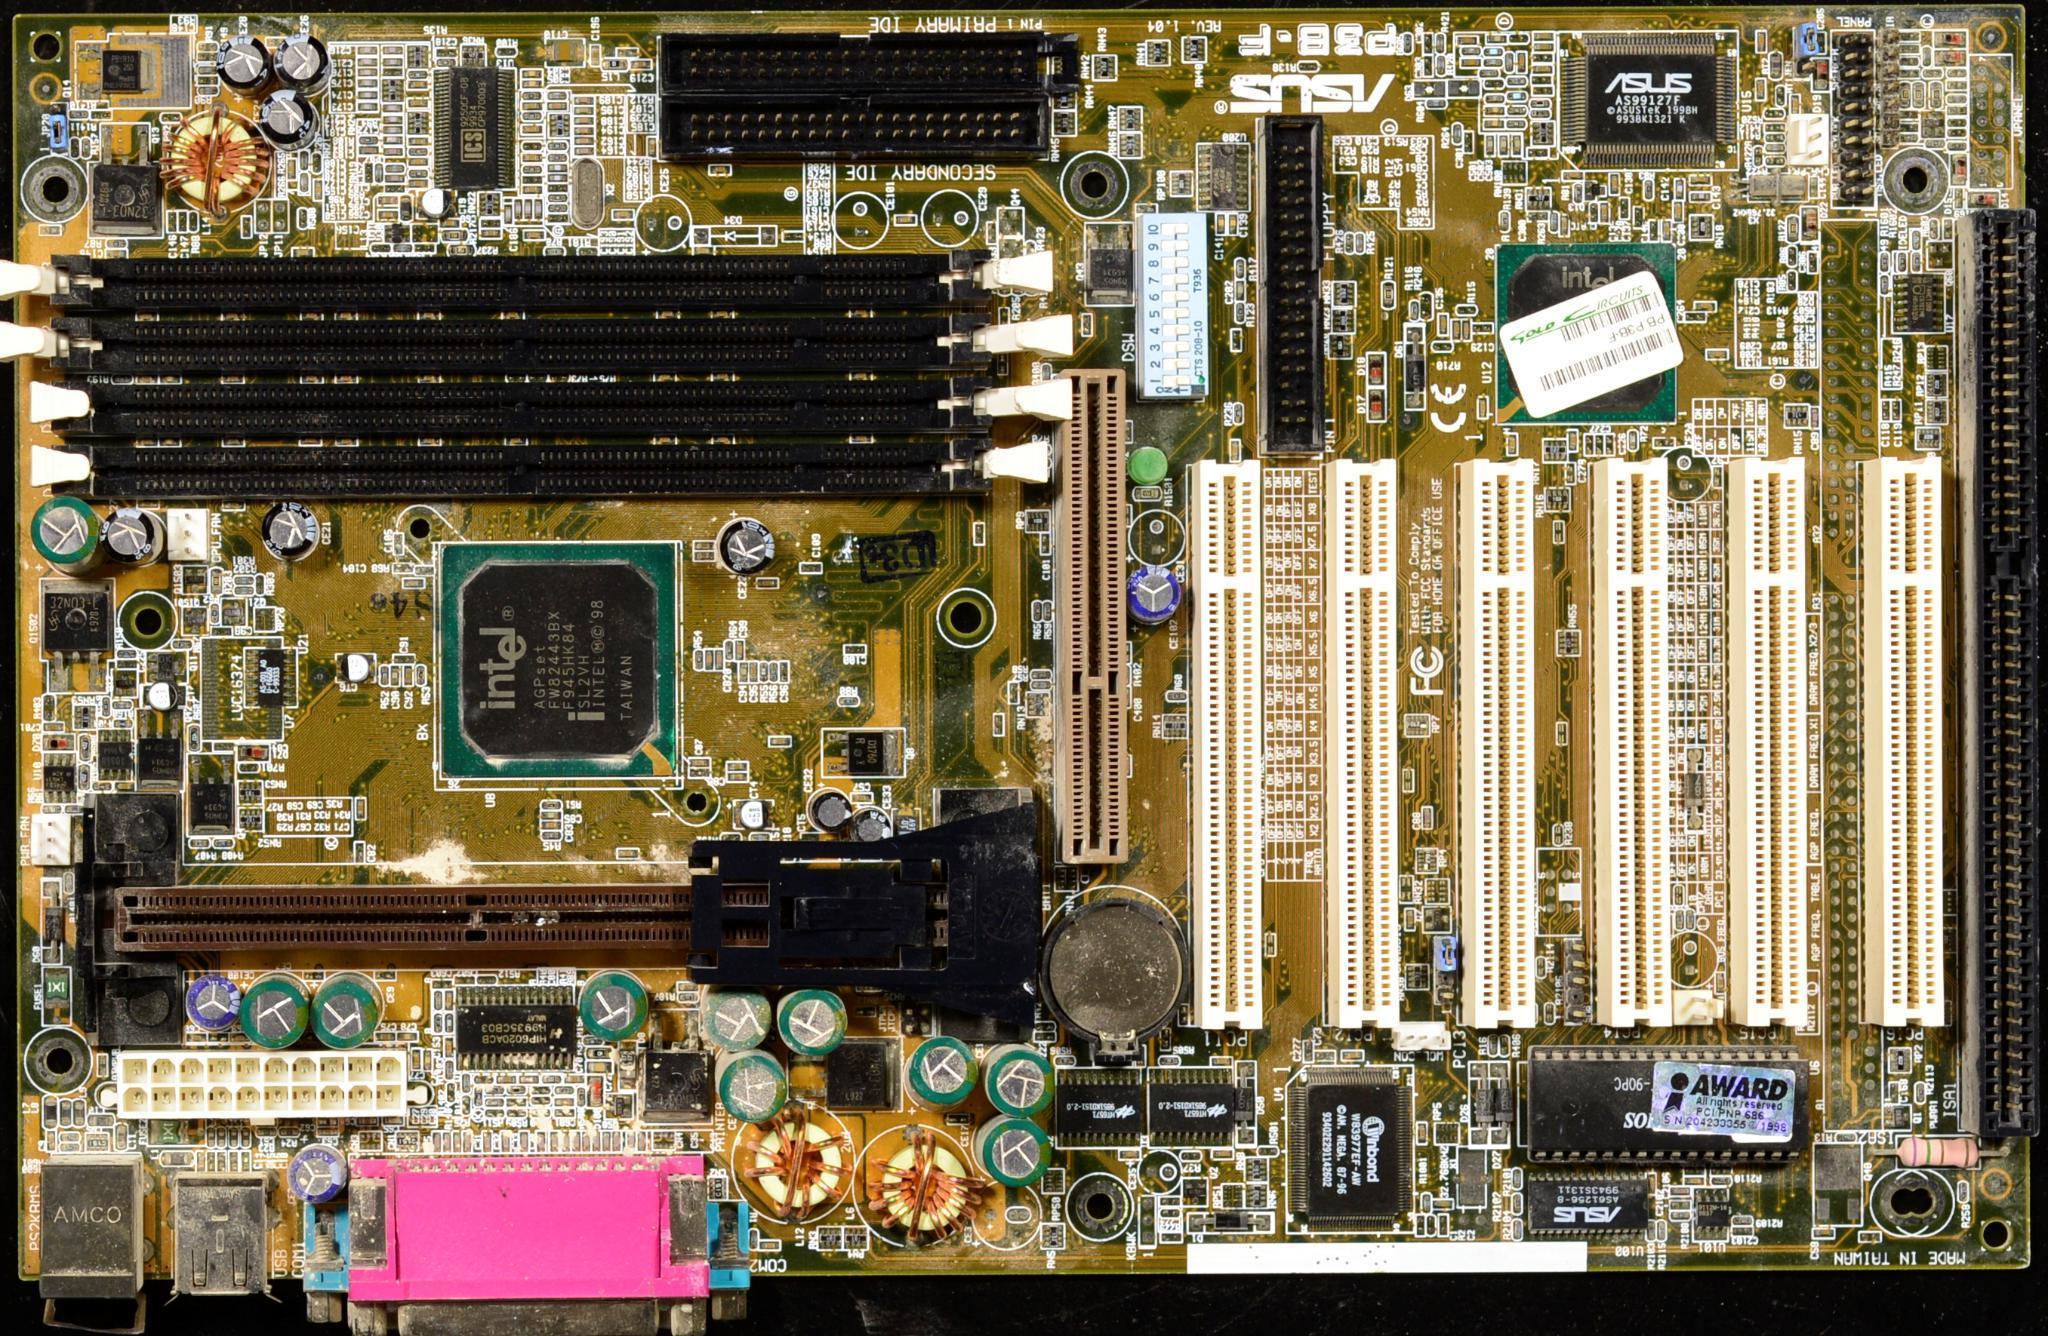Capacitor Jumper: (546, 40, 585, 66), (1755, 31, 1769, 54), (357, 90, 381, 102), (1814, 1227, 1838, 1239), (381, 45, 405, 57), (358, 78, 381, 90), (1345, 1049, 1367, 1061), (1691, 175, 1714, 187), (357, 45, 379, 57), (357, 67, 379, 79), (1755, 79, 1767, 100), (1512, 133, 1523, 157), (357, 58, 381, 69), (693, 540, 719, 549), (357, 102, 379, 112), (573, 106, 596, 116), (1669, 1187, 1691, 1197), (1670, 1209, 1693, 1220), (758, 1243, 781, 1254), (1499, 134, 1509, 157), (591, 45, 602, 67), (382, 58, 405, 69), (749, 660, 760, 682), (739, 661, 749, 684), (408, 576, 424, 590), (543, 820, 564, 830), (549, 93, 570, 103), (575, 127, 596, 137), (384, 146, 405, 157), (1218, 213, 1229, 234), (1535, 43, 1555, 54), (384, 69, 405, 79), (1408, 908, 1417, 931), (1611, 176, 1623, 194), (378, 210, 402, 219), (1040, 534, 1049, 558), (693, 758, 712, 769), (728, 761, 748, 772), (852, 793, 872, 803), (376, 164, 387, 184), (513, 200, 524, 219), (1809, 409, 1820, 428), (393, 533, 403, 552), (378, 196, 400, 205), (1229, 213, 1237, 236), (628, 61, 651, 70), (728, 773, 749, 782), (1426, 808, 1434, 828), (522, 81, 543, 90), (446, 990, 455, 1011), (409, 100, 430, 109), (412, 1051, 422, 1069), (1214, 1149, 1234, 1158), (575, 116, 596, 125), (1434, 1199, 1455, 1208), (384, 125, 405, 134), (384, 137, 405, 146), (1487, 134, 1496, 155), (649, 139, 658, 160), (575, 149, 596, 158), (385, 166, 406, 175), (1675, 181, 1685, 199), (525, 199, 534, 219), (614, 210, 634, 219), (1663, 222, 1672, 243), (696, 552, 717, 561), (405, 666, 413, 687), (522, 72, 543, 81), (384, 104, 403, 113), (1420, 1123, 1429, 1142), (360, 146, 379, 155), (410, 158, 430, 167), (288, 161, 297, 181), (711, 166, 730, 175), (1564, 172, 1584, 181), (440, 219, 460, 228), (393, 666, 402, 685), (1533, 67, 1552, 76), (360, 799, 367, 821), (1520, 52, 1527, 75), (409, 81, 427, 90), (1487, 121, 1505, 130), (387, 175, 405, 184), (409, 181, 427, 190), (525, 187, 543, 196), (1693, 193, 1711, 202), (505, 206, 513, 224), (548, 103, 569, 110), (1682, 1176, 1703, 1184), (384, 116, 405, 124), (1561, 215, 1569, 236), (525, 231, 546, 239), (1488, 36, 1509, 43), (737, 640, 745, 661), (772, 737, 793, 745), (422, 1051, 431, 1067), (522, 103, 542, 110), (1485, 109, 1505, 116), (524, 127, 543, 134), (410, 137, 430, 145), (575, 137, 594, 145), (316, 181, 324, 200), (1675, 202, 1682, 221), (1602, 203, 1609, 222), (482, 230, 502, 237), (1458, 37, 1478, 45), (717, 649, 724, 669), (1766, 146, 1788, 152), (548, 166, 570, 172), (107, 249, 125, 257), (1237, 282, 1245, 300), (575, 99, 596, 104), (1211, 1058, 1231, 1064), (1535, 34, 1555, 40), (549, 176, 569, 182), (537, 200, 543, 219), (543, 814, 561, 820), (399, 1034, 416, 1040), (522, 155, 540, 161), (696, 248, 714, 254), (755, 582, 778, 587), (378, 1033, 394, 1039), (708, 652, 714, 669)
Connector: (310, 1155, 751, 1335), (1973, 215, 2039, 1131), (60, 316, 993, 379), (57, 260, 990, 313), (58, 388, 981, 440), (58, 446, 993, 494), (113, 890, 772, 946), (1743, 466, 1809, 1023), (1473, 469, 1540, 1012), (1876, 458, 1938, 1028), (1611, 458, 1672, 1023), (1200, 466, 1261, 1028), (1063, 366, 1128, 858), (1336, 458, 1393, 1023), (652, 36, 1078, 96), (661, 100, 1052, 157), (119, 1051, 405, 1120), (39, 1155, 146, 1333), (178, 1176, 272, 1323)
IC: (439, 542, 684, 778), (1497, 240, 1685, 431), (1526, 1046, 1811, 1167), (1558, 34, 1738, 170), (1296, 1067, 1414, 1230), (455, 987, 578, 1070), (434, 69, 516, 188), (1529, 1169, 1649, 1237), (1055, 1070, 1149, 1146), (1148, 1069, 1234, 1148), (1199, 143, 1251, 212), (243, 646, 299, 711), (1896, 275, 1949, 336), (99, 728, 133, 781), (1694, 1188, 1730, 1237), (382, 224, 412, 243)
Resistor Jumper: (1872, 1139, 2011, 1167), (45, 754, 75, 803), (452, 246, 478, 258), (213, 570, 225, 596), (443, 231, 470, 242), (190, 725, 200, 752), (1911, 251, 1923, 273), (1057, 1054, 1075, 1067), (1300, 63, 1320, 75), (416, 667, 428, 687), (40, 805, 61, 815), (1532, 110, 1552, 121), (82, 137, 93, 158), (81, 767, 90, 791), (1237, 302, 1246, 325), (1736, 1215, 1755, 1226), (1452, 125, 1463, 145), (299, 152, 309, 172), (300, 173, 310, 193), (499, 48, 518, 58), (1505, 54, 1515, 73), (1167, 690, 1187, 700), (1882, 252, 1891, 275), (84, 736, 93, 758), (1917, 1084, 1926, 1105), (69, 110, 90, 119), (1514, 1169, 1523, 1190), (360, 137, 381, 146), (1643, 184, 1654, 202), (1899, 252, 1908, 273), (770, 663, 781, 681), (102, 696, 110, 717), (543, 831, 563, 840), (199, 87, 218, 96), (1509, 93, 1529, 102), (1961, 1182, 1970, 1202), (1658, 1221, 1667, 1240), (1237, 260, 1246, 279), (1405, 34, 1414, 54), (1437, 34, 1446, 54), (437, 60, 457, 69), (173, 640, 193, 649), (1437, 57, 1446, 76), (409, 72, 428, 81), (410, 148, 427, 158), (121, 648, 137, 658), (1711, 1178, 1733, 1185), (234, 576, 257, 584), (543, 802, 561, 811), (1508, 79, 1526, 88), (522, 93, 540, 102), (1487, 96, 1505, 104), (1532, 102, 1549, 110), (1514, 1221, 1523, 1239), (549, 143, 567, 152), (1630, 431, 1639, 449), (1461, 46, 1479, 55), (234, 587, 252, 596), (1034, 602, 1043, 619), (522, 113, 543, 121), (408, 172, 428, 179), (548, 205, 569, 212), (1914, 228, 1921, 249), (1881, 275, 1888, 296), (1484, 49, 1505, 57), (210, 605, 218, 625), (763, 664, 772, 681), (200, 66, 216, 75), (1555, 824, 1563, 843), (1508, 107, 1527, 115), (549, 194, 569, 202), (1484, 60, 1503, 67), (842, 699, 861, 706), (1427, 102, 1445, 109), (1158, 1058, 1181, 1064), (549, 155, 567, 163), (1503, 213, 1511, 231), (1551, 213, 1558, 231), (394, 245, 412, 252), (1031, 670, 1049, 678), (69, 808, 85, 815), (1042, 603, 1049, 619), (696, 652, 703, 669), (1482, 70, 1499, 78), (1576, 184, 1582, 203), (113, 719, 133, 725), (1515, 1196, 1523, 1211), (527, 166, 542, 173), (1426, 1196, 1432, 1214), (1649, 1221, 1655, 1239), (1508, 122, 1526, 128), (107, 242, 125, 248), (1033, 682, 1051, 688), (113, 702, 131, 708), (546, 249, 563, 255), (727, 642, 733, 658), (384, 669, 390, 685)
Transistor: (43, 579, 110, 694), (93, 125, 163, 231), (78, 43, 157, 99), (1087, 225, 1136, 308), (137, 709, 184, 793), (825, 728, 905, 776), (190, 755, 236, 833), (148, 651, 187, 684), (116, 669, 140, 697), (1885, 1105, 1911, 1130), (185, 567, 209, 593), (225, 599, 246, 624)
